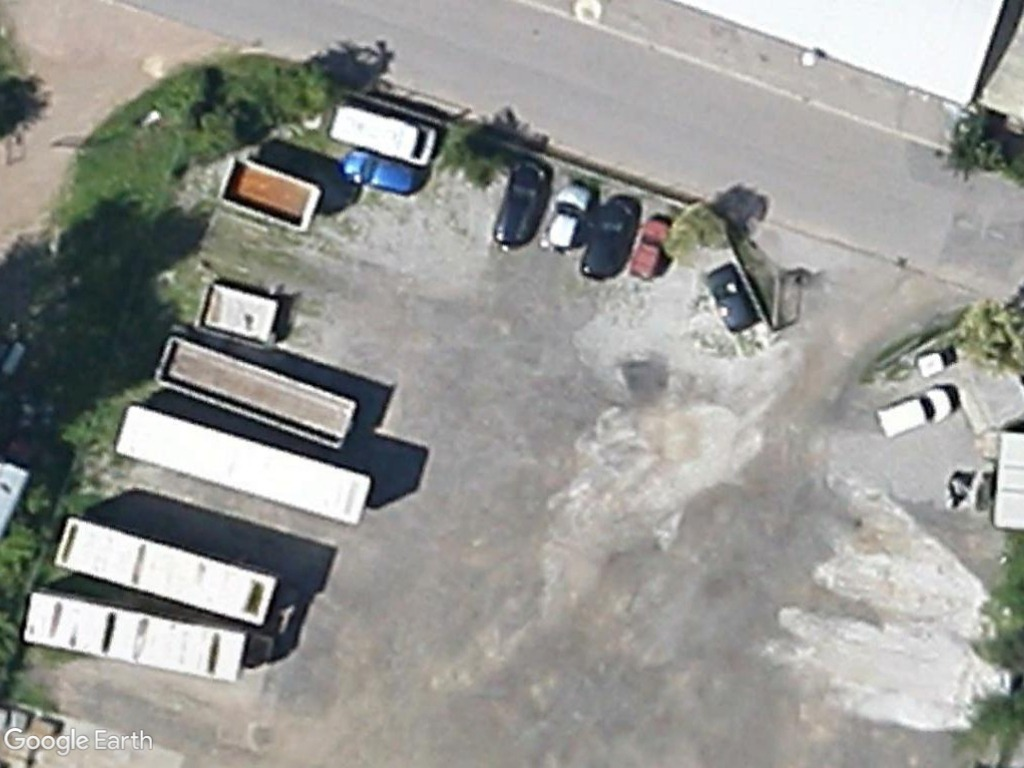car: (490, 157, 548, 253), (575, 195, 632, 285), (336, 142, 422, 199), (873, 385, 958, 440), (543, 179, 597, 256)
longvehicle: (105, 405, 380, 530), (55, 511, 284, 628), (15, 582, 255, 688)
van: (323, 99, 443, 168)
